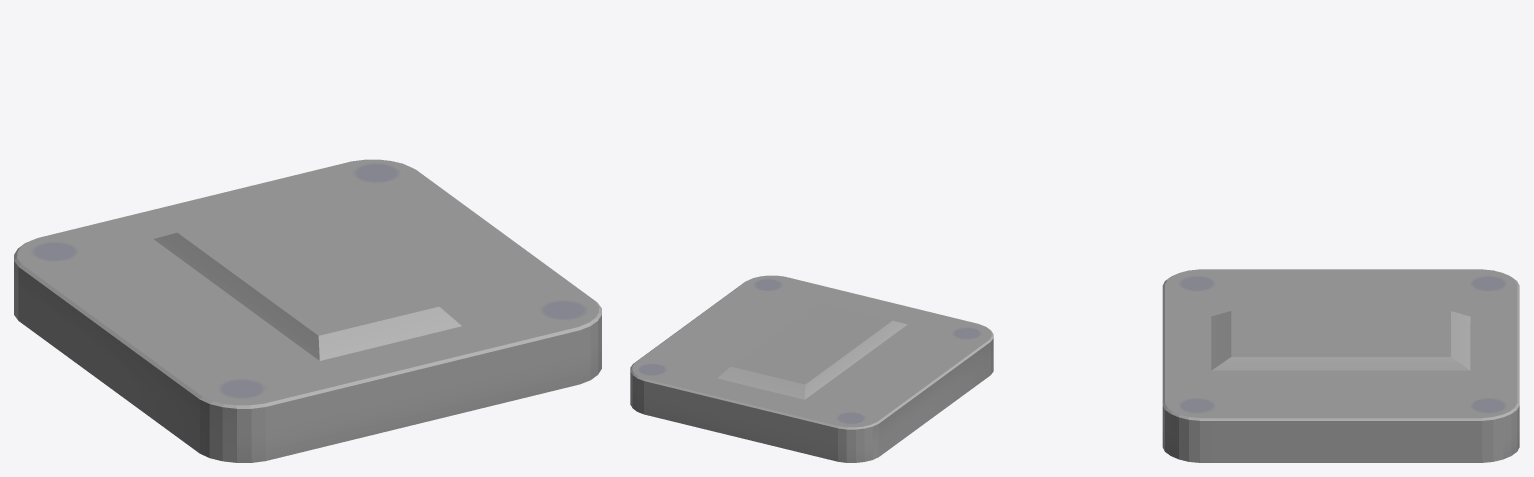
File: obj_interactive_emergencyLever_off.obj
3 views of the same model, side by side, from view 1: azimuth 30°, elevation 25°; view 2: azimuth 150°, elevation 25°; view 3: azimuth 270°, elevation 25° (orthographic). The views are drawn at different scales.
Parts seen in each view (by area): view 1: Cube; view 2: Cube; view 3: Cube.
Part boxes in pixels (left/top/right/bottom): Cube: left=14, top=159, right=601, bottom=462; Cube: left=630, top=275, right=993, bottom=462; Cube: left=1162, top=269, right=1519, bottom=462.
Bounding box in the file's own units: 1 × 1.08 × 1.39.
